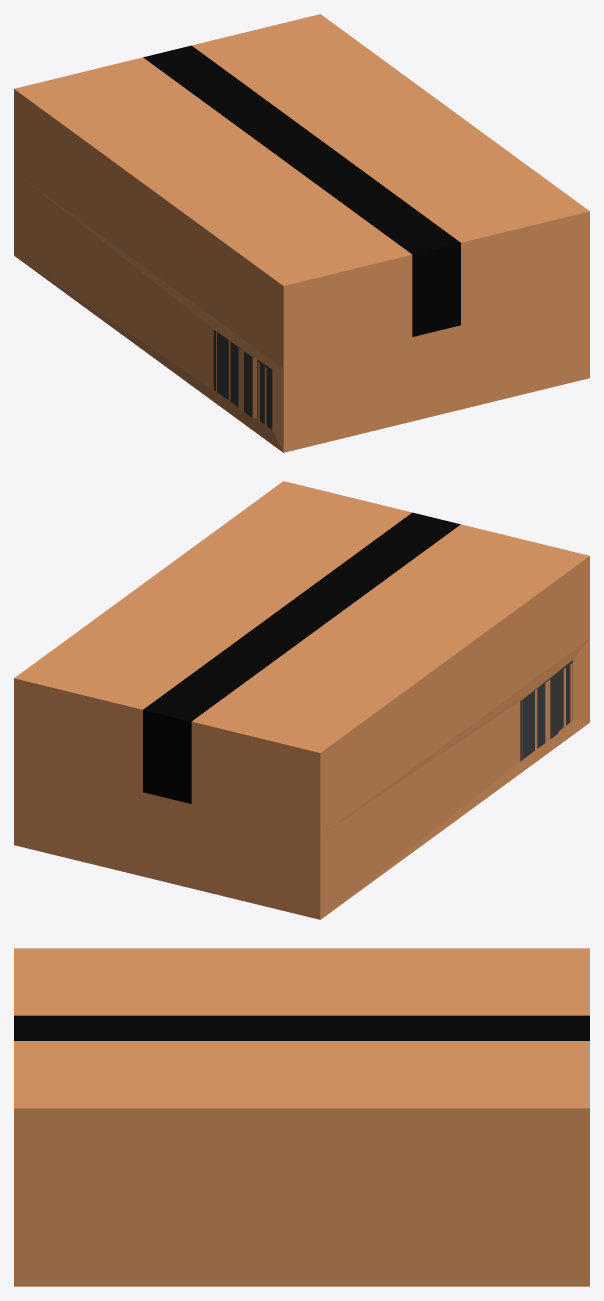
3 views of the same model, one above another, from view 1: azimuth 30°, elevation 25°; view 2: azimuth 150°, elevation 25°; view 3: azimuth 270°, elevation 25° (orthographic). The views are drawn at different scales.
Visible parts, largest first — view 1: 荷物; view 2: 荷物; view 3: 荷物.
Part boxes in pixels (left/top/right/bottom): 荷物: left=14, top=14, right=589, bottom=452; 荷物: left=14, top=481, right=589, bottom=919; 荷物: left=14, top=948, right=589, bottom=1286.
Size of the model in its own units: 141 by 73.21 by 214.
